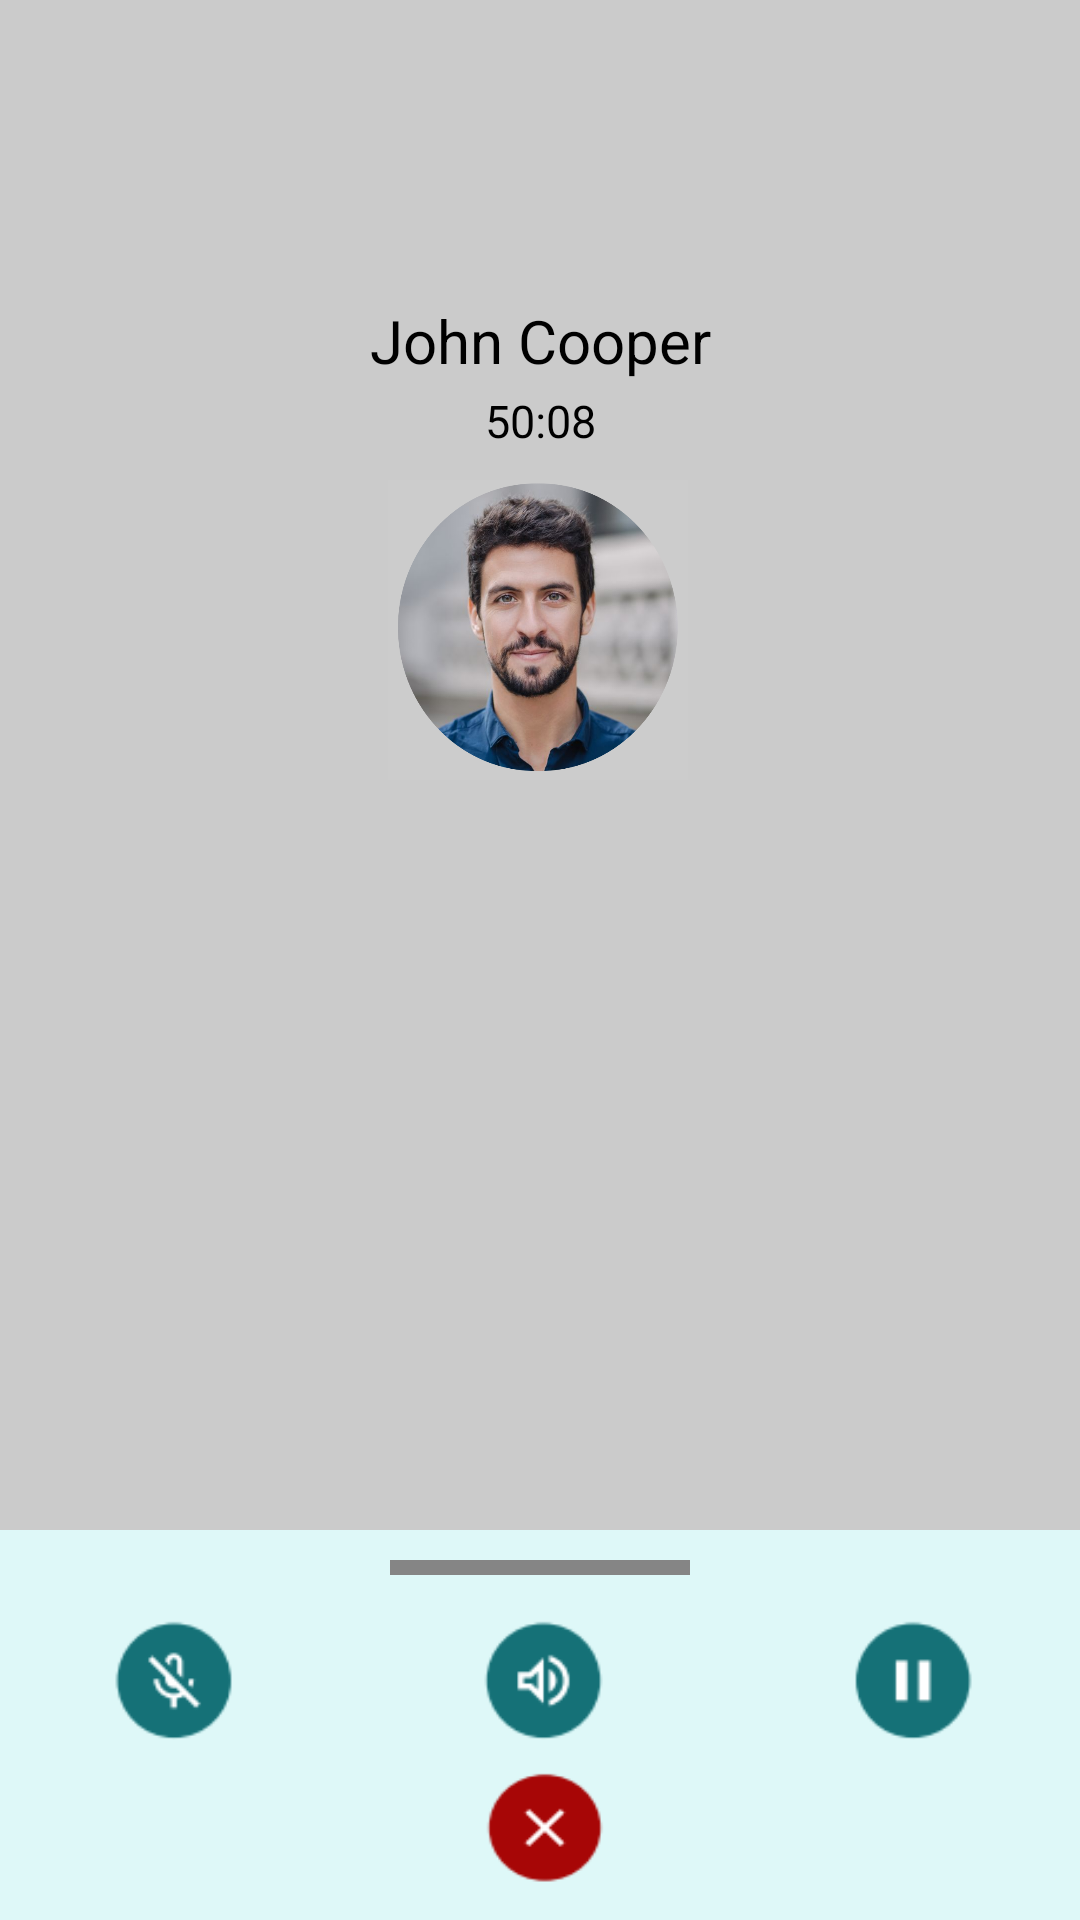

Icons on this 1080 x 1920 Android screen, each with the point to tap as [x,y]:
callend: [544,1828]
